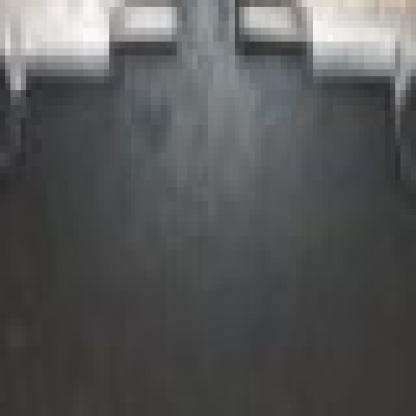gun: (0, 0, 203, 409), (223, 0, 410, 409)
